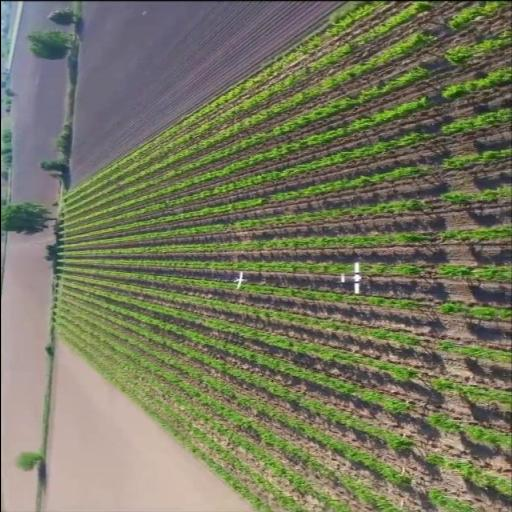uav: (338, 261, 368, 293), (234, 270, 245, 288)
